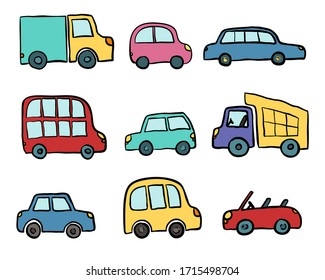car: (210, 91, 310, 158), (19, 94, 109, 160), (17, 14, 115, 69), (122, 176, 203, 238), (202, 26, 307, 66), (15, 192, 96, 239), (221, 190, 302, 236), (124, 111, 199, 156), (129, 21, 193, 69)
